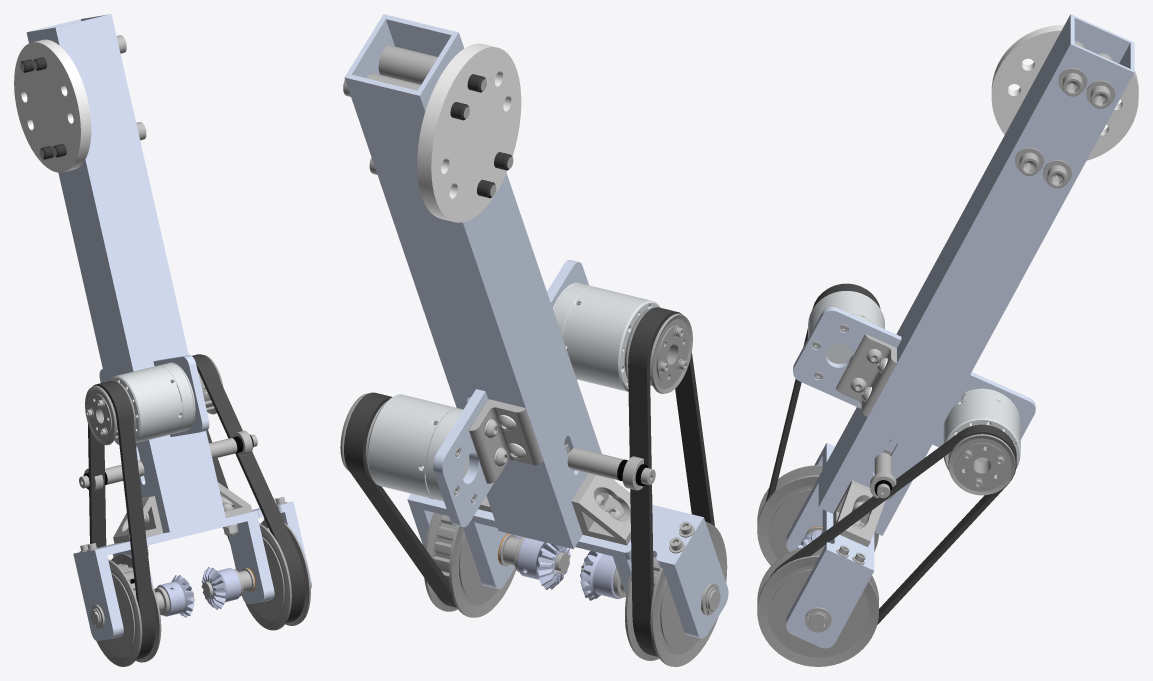
The model's file is Arm Forearm.glb.
3 renders of one model, left to right at view 1: azimuth 30°, elevation 25°; view 2: azimuth 150°, elevation 25°; view 3: azimuth 270°, elevation 25°, orthographic. The views are drawn at different scales.
Parts seen in each view (by area): view 1: Arm Forearm; view 2: Arm Forearm; view 3: Arm Forearm.
Boxes of the visible parts, x1,y1,x2,y2 form: Arm Forearm: (14, 14, 311, 666); Arm Forearm: (340, 14, 728, 666); Arm Forearm: (757, 14, 1138, 666).
Bounding box in the file's own units: 0.1885 × 0.466 × 0.2721.
